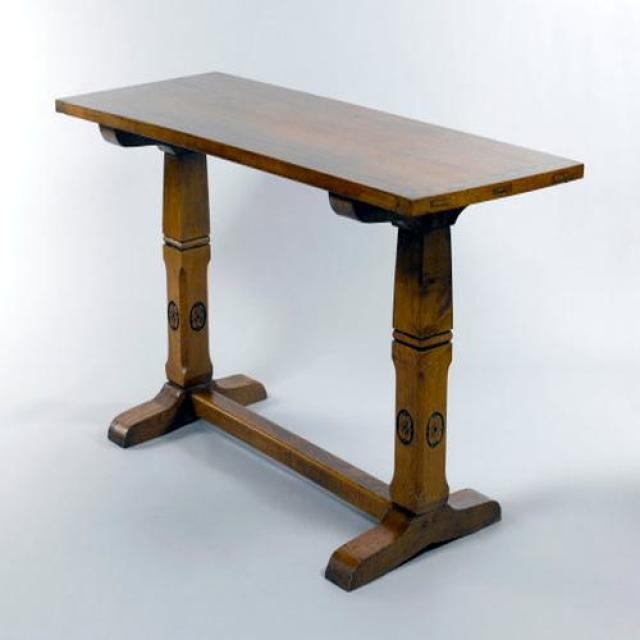table: (55, 72, 586, 594)
